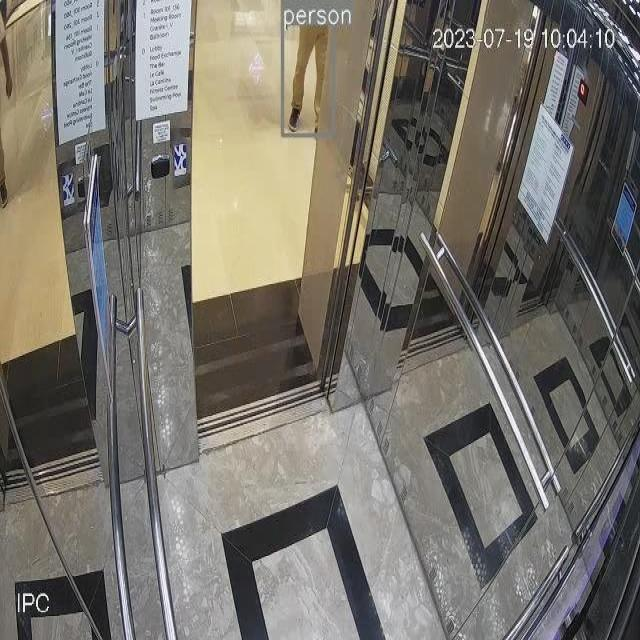person: (283, 0, 336, 139)
